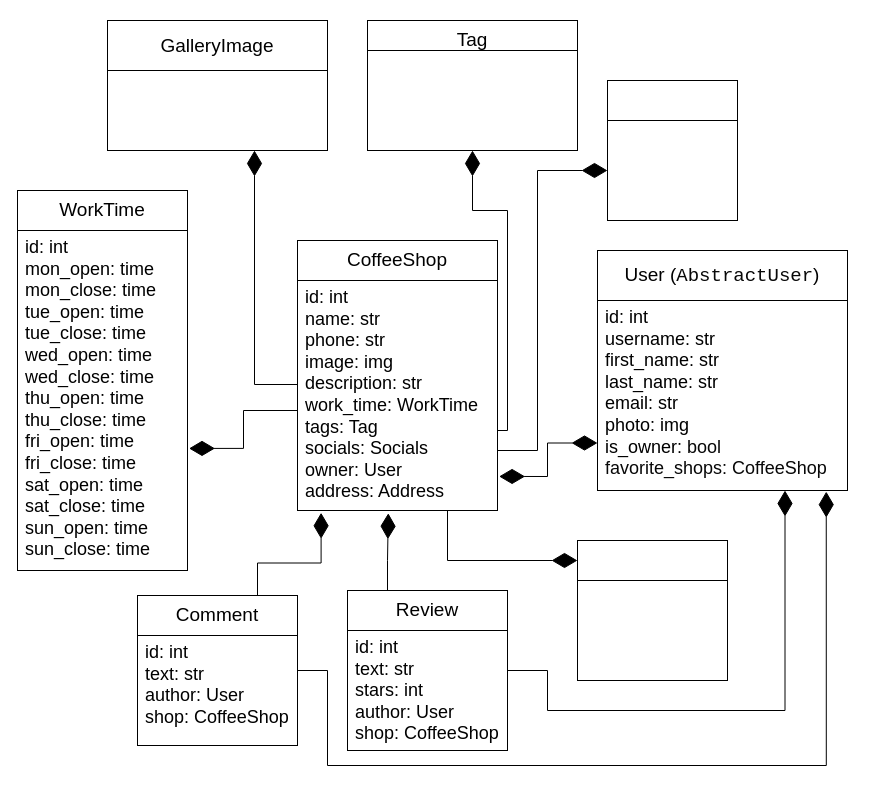
Some shapes in this 869 by 808 pixel diagram are drawn without their labels. Here are the shapes that lost their labels. From the top down, the centre of each, then its label:
point (217, 110): id: int image: img coffee_shop: CoffeeShop
point (472, 100): id: int name: str type: str (Enum) ('activity', 'convenience')
point (672, 100): Socials
point (672, 170): id: int instagram: url facebook: url twitter: url
point (652, 560): Address
point (652, 630): id: int postal_code: int street: str city: str
